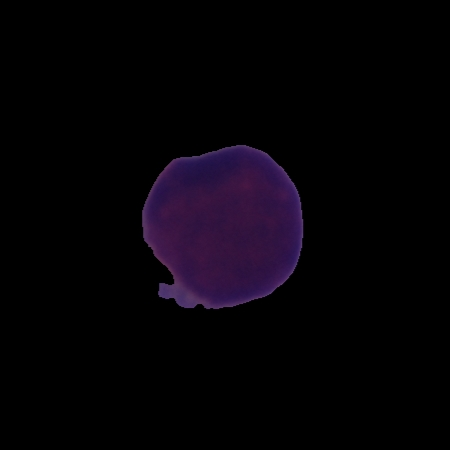ALL: (136, 140, 307, 314)
